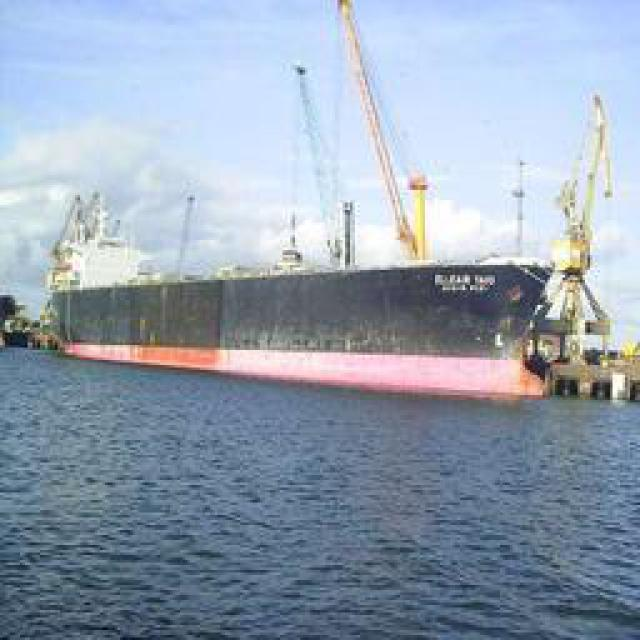Ship: (70, 262, 550, 402)
